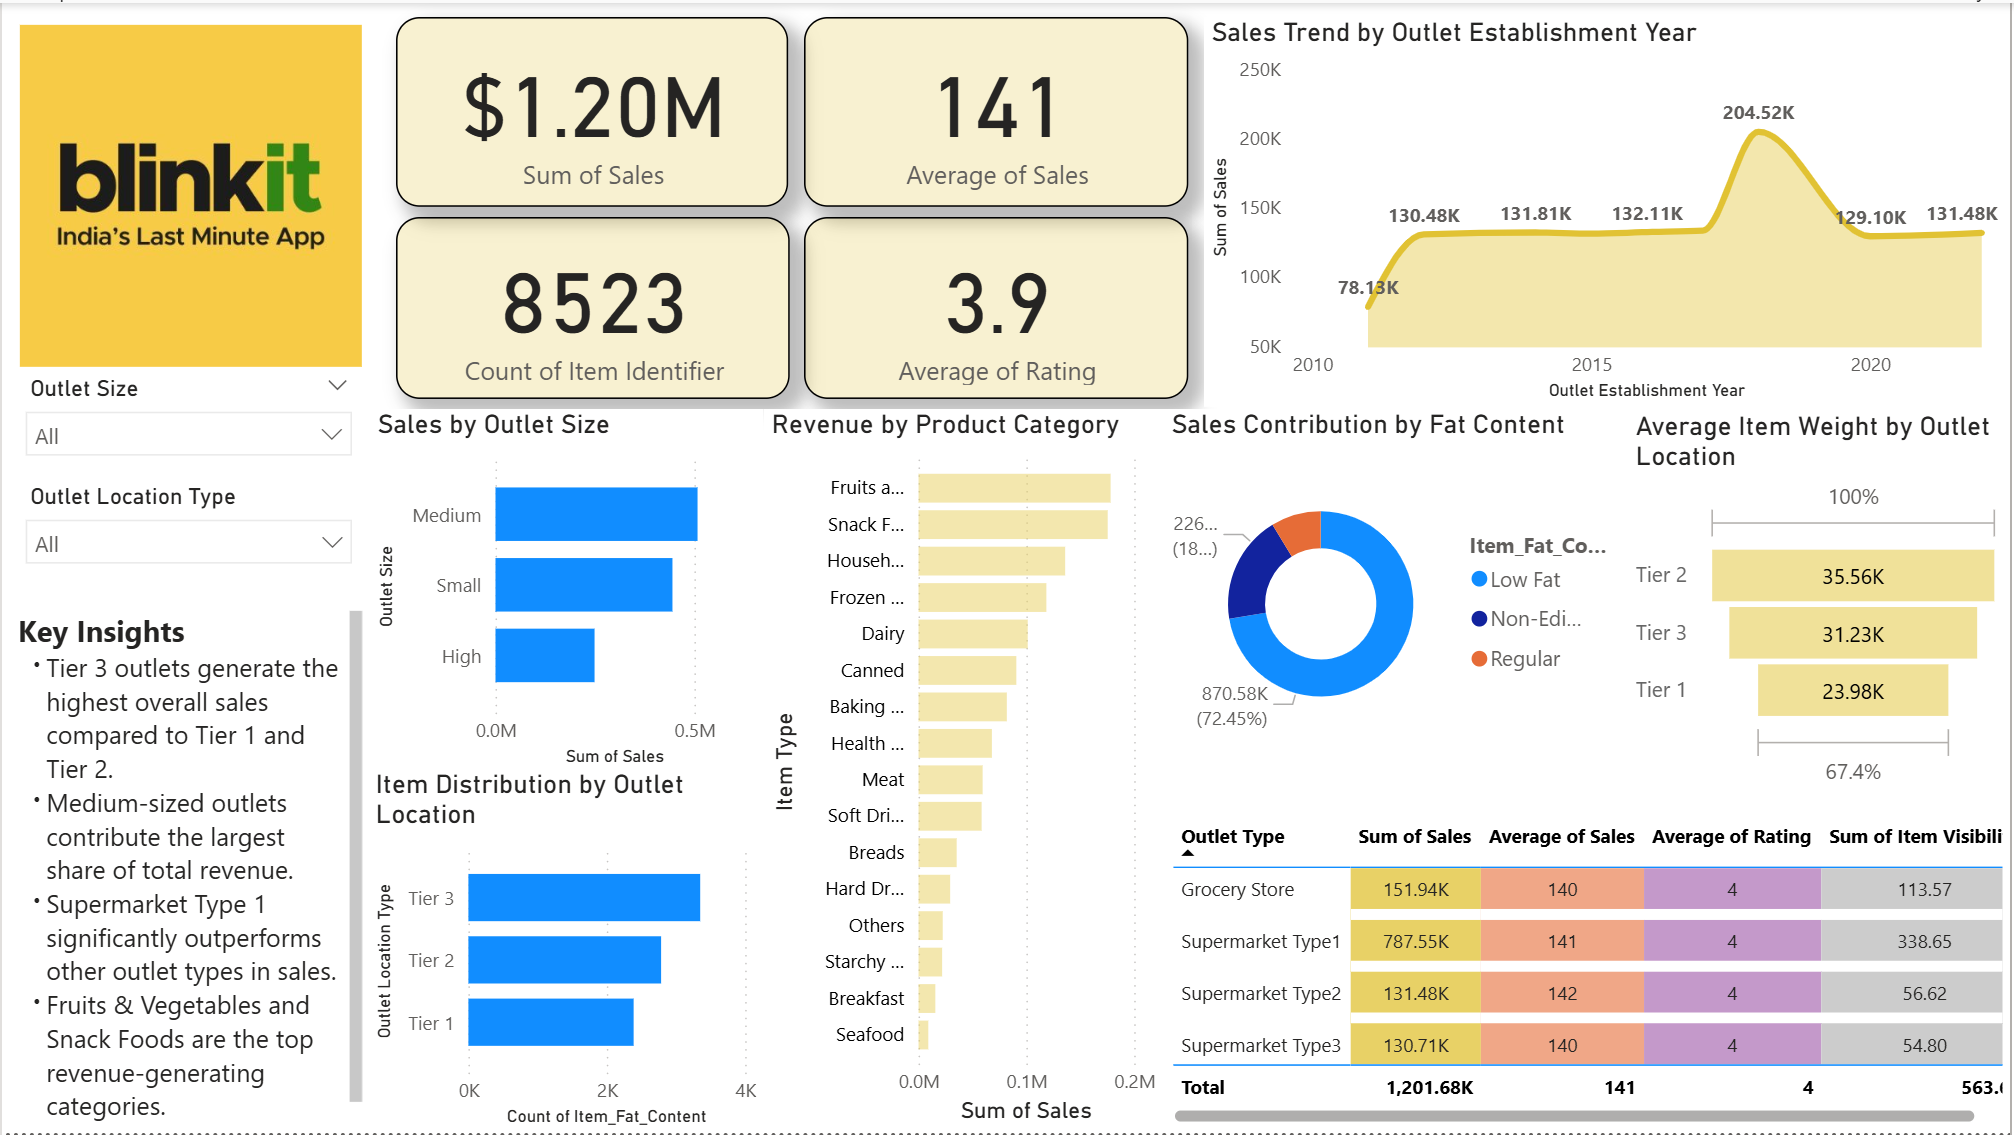

The page's visual inventory and layout, read from the dashboard file:
{"tool":"powerbi","page":{"name":"Page 1","canvas":[1280,720],"ordinal":0},"visuals":[{"type":"card","fields":{"Values":["Sum(C2_BlinkIT Grocery Data Excel xlsx - BlinkIT Grocery Data.Sales)"]},"box":[251.2,8.9,249.9,121.1],"z":0},{"type":"card","fields":{"Values":["Avg(C2_BlinkIT Grocery Data Excel xlsx - BlinkIT Grocery Data.Sales)"]},"box":[511.2,8.9,244.8,121.1],"z":1000},{"type":"card","fields":{"Values":["CountNonNull(C2_BlinkIT Grocery Data Excel xlsx - BlinkIT Grocery Data.Item Identifier)"]},"box":[251.2,136.4,251.2,116],"z":2000},{"type":"card","fields":{"Values":["Avg(C2_BlinkIT Grocery Data Excel xlsx - BlinkIT Grocery Data.Rating)"]},"box":[511.2,136.4,244.8,116],"z":3000},{"type":"clusteredBarChart","title":"Revenue by Product Category","fields":{"Category":["C2_BlinkIT Grocery Data Excel xlsx - BlinkIT Grocery Data.Item Type"],"Y":["Sum(C2_BlinkIT Grocery Data Excel xlsx - BlinkIT Grocery Data.Sales)"]},"box":[485.7,258.8,255,460.2],"z":4000},{"type":"clusteredBarChart","title":"Sales by Outlet Size","fields":{"Category":["C2_BlinkIT Grocery Data Excel xlsx - BlinkIT Grocery Data.Outlet Size"],"Y":["Sum(C2_BlinkIT Grocery Data Excel xlsx - BlinkIT Grocery Data.Sales)"]},"box":[234.6,258.8,251.2,232],"z":5000},{"type":"funnel","title":"Average Item Weight by Outlet Location","fields":{"Category":["C2_BlinkIT Grocery Data Excel xlsx - BlinkIT Grocery Data.Outlet Location Type"],"Y":["Sum(C2_BlinkIT Grocery Data Excel xlsx - BlinkIT Grocery Data.Item Weight)"]},"box":[1036.5,260.1,243.5,244.8],"z":6000},{"type":"tableEx","fields":{"Values":["C2_BlinkIT Grocery Data Excel xlsx - BlinkIT Grocery Data.Outlet Type","Sum(C2_BlinkIT Grocery Data Excel xlsx - BlinkIT Grocery Data.Sales)","Avg(C2_BlinkIT Grocery Data Excel xlsx - BlinkIT Grocery Data.Sales)","Avg(C2_BlinkIT Grocery Data Excel xlsx - BlinkIT Grocery Data.Rating)","Sum(C2_BlinkIT Grocery Data Excel xlsx - BlinkIT Grocery Data.Item Visibility)"]},"box":[740.7,512.5,539.3,206.5],"z":7000},{"type":"image","box":[6.4,8.9,228.2,228.2],"z":9000},{"type":"slicer","fields":{"Values":["C2_BlinkIT Grocery Data Excel xlsx - BlinkIT Grocery Data.Outlet Size"]},"box":[5.5,231.9,227.8,76.8],"z":10000},{"type":"slicer","fields":{"Values":["C2_BlinkIT Grocery Data Excel xlsx - BlinkIT Grocery Data.Outlet Location Type"]},"box":[5.1,300.9,228.2,81.6],"z":11000},{"type":"stackedAreaChart","title":"Sales Trend by Outlet Establishment Year","fields":{"Category":["C2_BlinkIT Grocery Data Excel xlsx - BlinkIT Grocery Data.Outlet Establishment Year"],"Y":["Sum(C2_BlinkIT Grocery Data Excel xlsx - BlinkIT Grocery Data.Sales)"]},"box":[766.2,8.9,513.8,248.6],"z":12000},{"type":"donutChart","title":"Sales Contribution by Fat Content","fields":{"Category":["C2_BlinkIT Grocery Data Excel xlsx - BlinkIT Grocery Data.Item_Fat_Content"],"Y":["Sum(C2_BlinkIT Grocery Data Excel xlsx - BlinkIT Grocery Data.Sales)"]},"box":[740.7,258.8,295.8,229.5],"z":13000},{"type":"clusteredBarChart","title":"Item Distribution by Outlet Location","fields":{"Category":["C2_BlinkIT Grocery Data Excel xlsx - BlinkIT Grocery Data.Outlet Location Type"],"Y":["CountNonNull(C2_BlinkIT Grocery Data Excel xlsx - BlinkIT Grocery Data.Item_Fat_Content)"]},"box":[233.3,488.3,252.4,232],"z":14000},{"type":"textbox","box":[5.1,382.5,229.5,337.8],"z":15000}]}

Visuals, with their boxes in screenshot pixels (x1, y1, x2, y2), scaled from the page's 1280x720 canvas onto the 2014x1135 screenshot:
card - Sum(C2_BlinkIT Grocery Data Excel xlsx - BlinkIT Grocery Data.Sales): pyautogui.locateOnScreen(395, 14, 788, 205)
card - Avg(C2_BlinkIT Grocery Data Excel xlsx - BlinkIT Grocery Data.Sales): pyautogui.locateOnScreen(804, 14, 1190, 205)
card - CountNonNull(C2_BlinkIT Grocery Data Excel xlsx - BlinkIT Grocery Data.Item Identifier): pyautogui.locateOnScreen(395, 215, 790, 398)
card - Avg(C2_BlinkIT Grocery Data Excel xlsx - BlinkIT Grocery Data.Rating): pyautogui.locateOnScreen(804, 215, 1190, 398)
"Revenue by Product Category" clusteredBarChart: pyautogui.locateOnScreen(764, 408, 1165, 1133)
"Sales by Outlet Size" clusteredBarChart: pyautogui.locateOnScreen(369, 408, 764, 774)
"Average Item Weight by Outlet Location" funnel: pyautogui.locateOnScreen(1631, 410, 2013, 796)
tableEx - C2_BlinkIT Grocery Data Excel xlsx - BlinkIT Grocery Data.Outlet Type x Sum(C2_BlinkIT Grocery Data Excel xlsx - BlinkIT Grocery Data.Sales): pyautogui.locateOnScreen(1165, 808, 2013, 1133)
image: pyautogui.locateOnScreen(10, 14, 369, 374)
slicer - C2_BlinkIT Grocery Data Excel xlsx - BlinkIT Grocery Data.Outlet Size: pyautogui.locateOnScreen(9, 366, 367, 487)
slicer - C2_BlinkIT Grocery Data Excel xlsx - BlinkIT Grocery Data.Outlet Location Type: pyautogui.locateOnScreen(8, 474, 367, 603)
"Sales Trend by Outlet Establishment Year" stackedAreaChart: pyautogui.locateOnScreen(1206, 14, 2013, 406)
"Sales Contribution by Fat Content" donutChart: pyautogui.locateOnScreen(1165, 408, 1631, 770)
"Item Distribution by Outlet Location" clusteredBarChart: pyautogui.locateOnScreen(367, 770, 764, 1134)
textbox: pyautogui.locateOnScreen(8, 603, 369, 1134)
